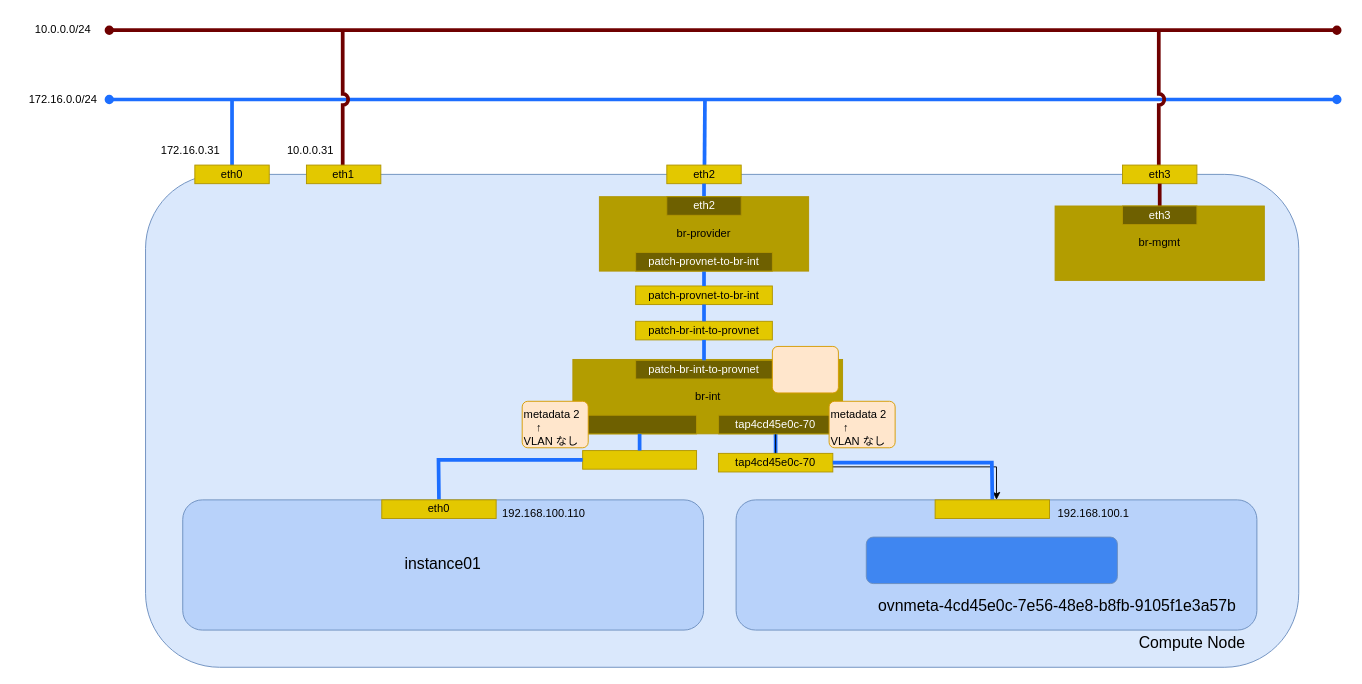
This 1362x684 diagram has some shape labels left out. The centre of each missing label's shape, as x and y in pixels:
"Metadata Agent" belongs at [991,560].
"tag 100 ↑↓ metadata 2" belongs at [804,369].
"tap0600145a-d5" belongs at [639,459].
"tap4cd45e0c-71" belongs at [992,508].
"tapab05158b-09" belongs at [639,424].
